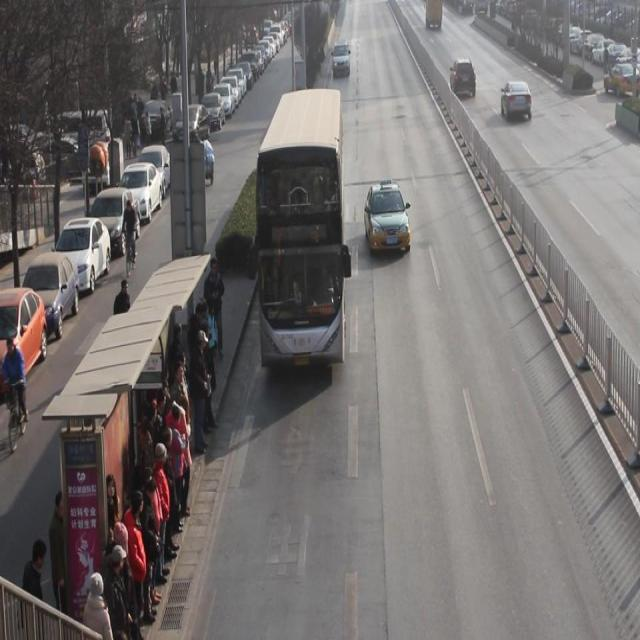car: (366, 183, 412, 256), (502, 82, 533, 122), (451, 57, 477, 99)
truck: (332, 41, 351, 78)
van: (251, 88, 341, 365)
